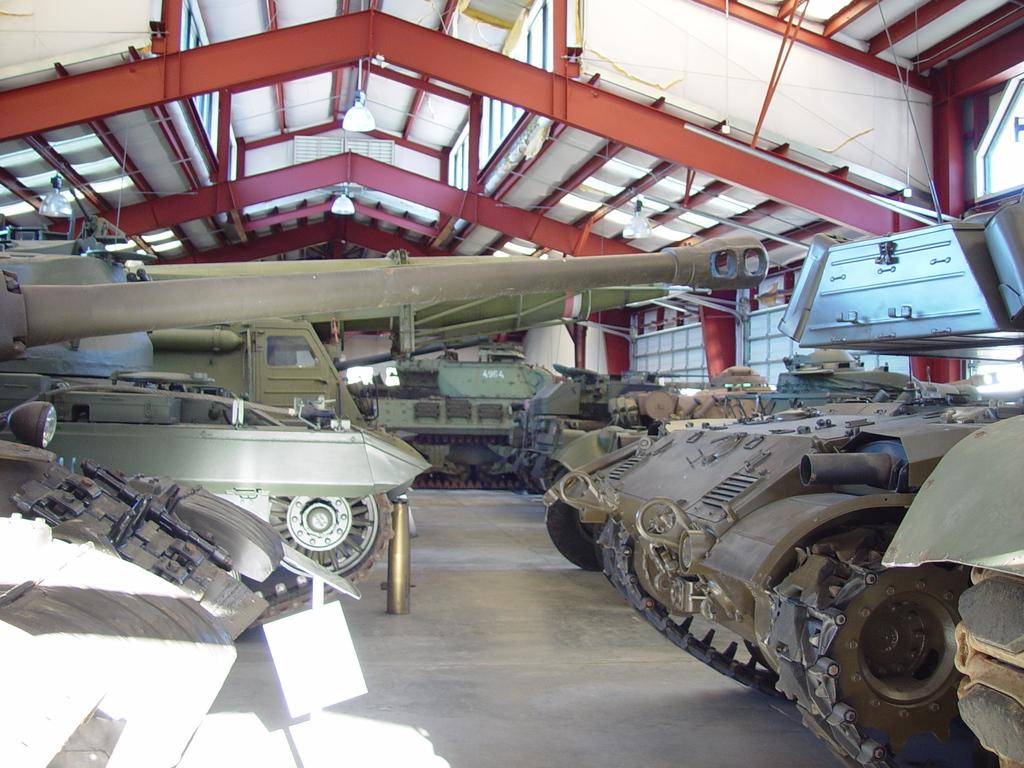Tank: (0, 246, 1023, 767)
